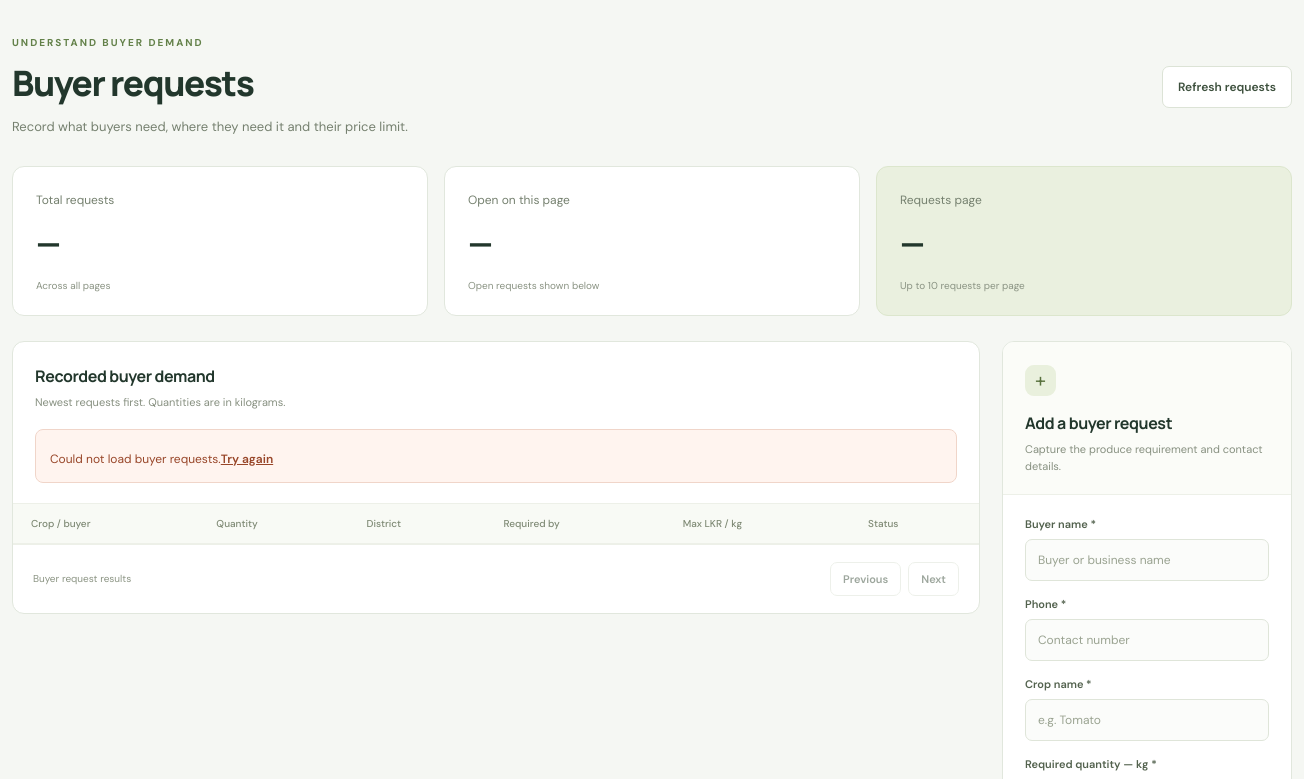
BuyerRequests › retries a failed list request
Expected: the message shows "Could not load buyer requests.", [50, 451, 221, 467]
What coordinates should you click on to do the following:
click the button "Try again"
I would click on:
 (247, 456)
Its box is [221, 442, 273, 470].
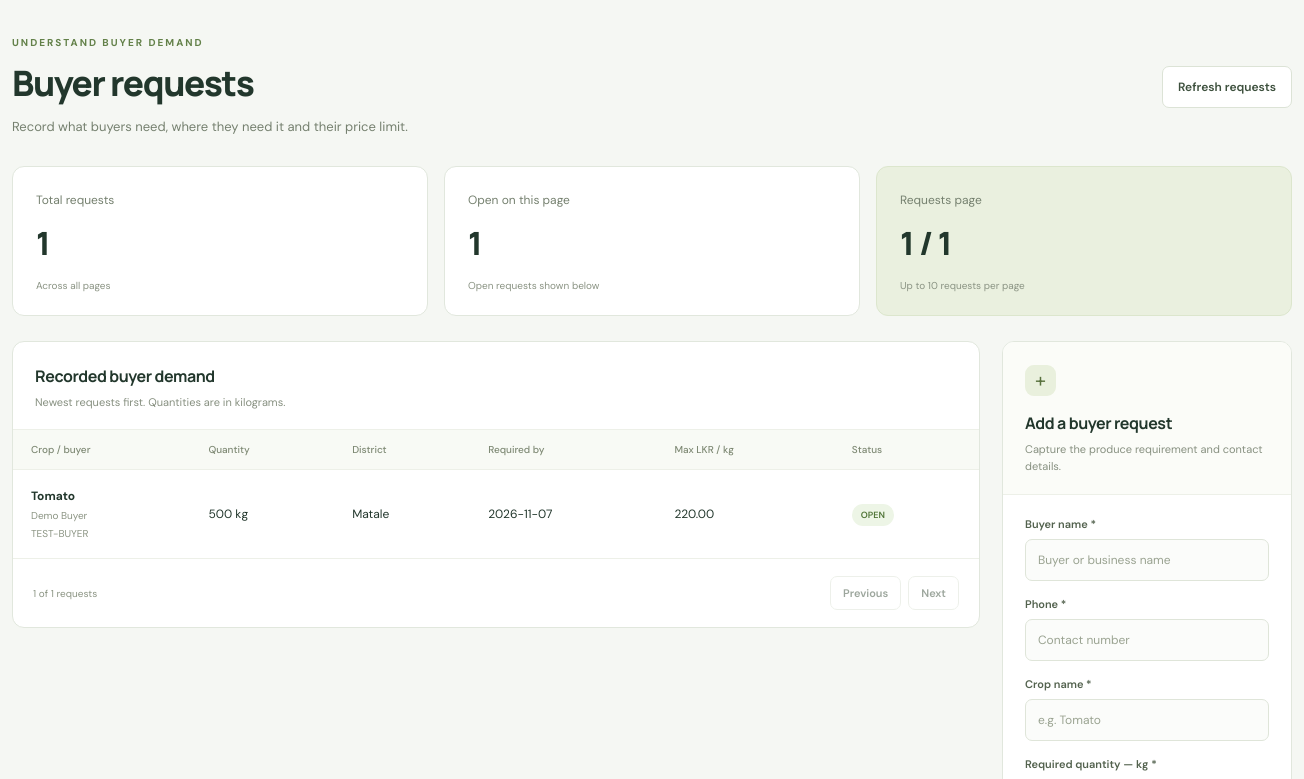
Result: the text "Tomato" is shown at [31, 488, 75, 504]
Result: the message "Could not load buyer requests. Try again" is gone
